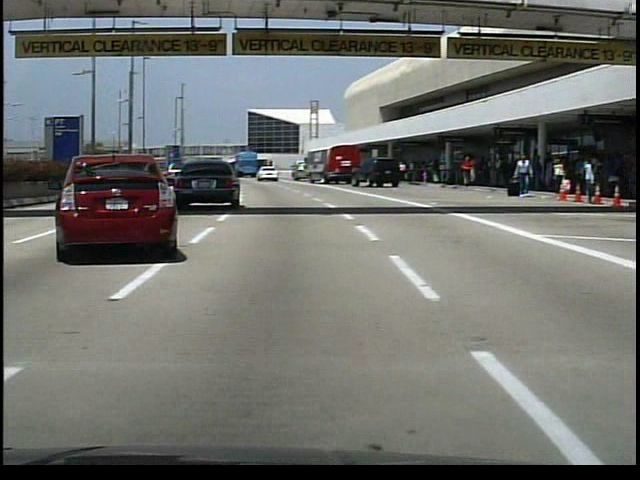person: (509, 153, 531, 198), (458, 156, 476, 187), (396, 162, 408, 185)
